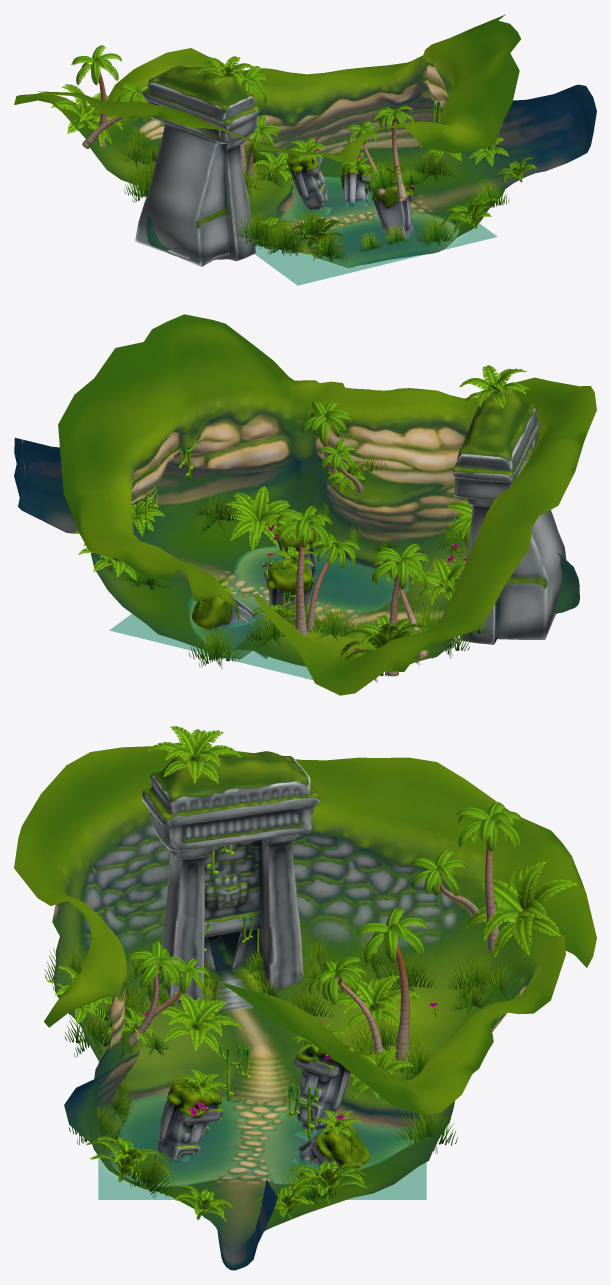
File: jungle_environment-transformed.glb
3 renders of one model, top to bottom at view 1: azimuth 30°, elevation 25°; view 2: azimuth 150°, elevation 25°; view 3: azimuth 270°, elevation 25°, orthographic. The views are drawn at different scales.
Parts seen in each view (by area): view 1: JungleEnvironment1_Ground_2, Temple_Model_51, JungleEnvironment1_Water2_5, Statue_Model2, Statue_Model_11, PalmA_Model4, Bush_Model13, Statue_Mat, PalmC_Model2, Bush_Model15, Bush_Model11, PalmC_Model_44 (+21 smaller); view 2: JungleEnvironment1_Ground_2, Temple_Model_51, JungleEnvironment1_Water2_5, PalmA_Model3_38, Bush_Model15, PalmA_Model4, Statue_Mat, Statue_Model2, PalmC_Model2, PalmC_Model_44, Bush_Model11, Grass_Tall_Model14 (+11 smaller); view 3: JungleEnvironment1_Ground_2, Temple_Model_51, JungleEnvironment1_Water2_5, Bush_Model13, Statue_Model_11, Statue_Model2, PalmA_Model3_38, PalmA_Model4, Bush_Model11, Bush_Model10, Statue_Mat, PalmC_Model2 (+19 smaller).
Boxes of the visible parts, box(x1,y1,x2,y2) form: JungleEnvironment1_Ground_2: box(14, 14, 596, 267); Temple_Model_51: box(135, 65, 258, 266); JungleEnvironment1_Water2_5: box(255, 176, 497, 285); Statue_Model2: box(286, 146, 331, 214); Statue_Model_11: box(372, 182, 414, 243); PalmA_Model4: box(71, 45, 121, 147); Bush_Model13: box(51, 84, 122, 146); Statue_Mat: box(340, 164, 372, 206); PalmC_Model2: box(372, 105, 414, 201); Bush_Model15: box(441, 193, 499, 234); Bush_Model11: box(197, 56, 256, 84); PalmC_Model_44: box(246, 115, 280, 177); JungleEnvironment1_Ground_2: box(14, 314, 596, 695); Temple_Model_51: box(453, 389, 566, 644); JungleEnvironment1_Water2_5: box(109, 545, 409, 679); PalmA_Model3_38: box(276, 506, 332, 635); Bush_Model15: box(226, 486, 291, 550); PalmA_Model4: box(372, 544, 429, 676); Statue_Mat: box(192, 590, 267, 658); Statue_Model2: box(264, 561, 314, 620); PalmC_Model2: box(301, 400, 352, 483); PalmC_Model_44: box(306, 533, 359, 630); Bush_Model11: box(459, 365, 529, 408); Grass_Tall_Model14: box(188, 623, 240, 668); JungleEnvironment1_Ground_2: box(14, 743, 596, 1270); Temple_Model_51: box(142, 751, 319, 1011); JungleEnvironment1_Water2_5: box(98, 1061, 426, 1199); Bush_Model13: box(466, 862, 577, 956); Statue_Model_11: box(157, 1079, 222, 1164); Statue_Model2: box(292, 1040, 355, 1140); PalmA_Model3_38: box(356, 907, 428, 1060); PalmA_Model4: box(456, 802, 523, 951); Bush_Model11: box(147, 726, 240, 783); Bush_Model10: box(159, 992, 242, 1053); Statue_Mat: box(291, 1123, 369, 1171); PalmC_Model2: box(126, 941, 187, 1046).
Bounding box in the file's own units: 1937 × 942 × 1421.
6 materials, 6 textured.
